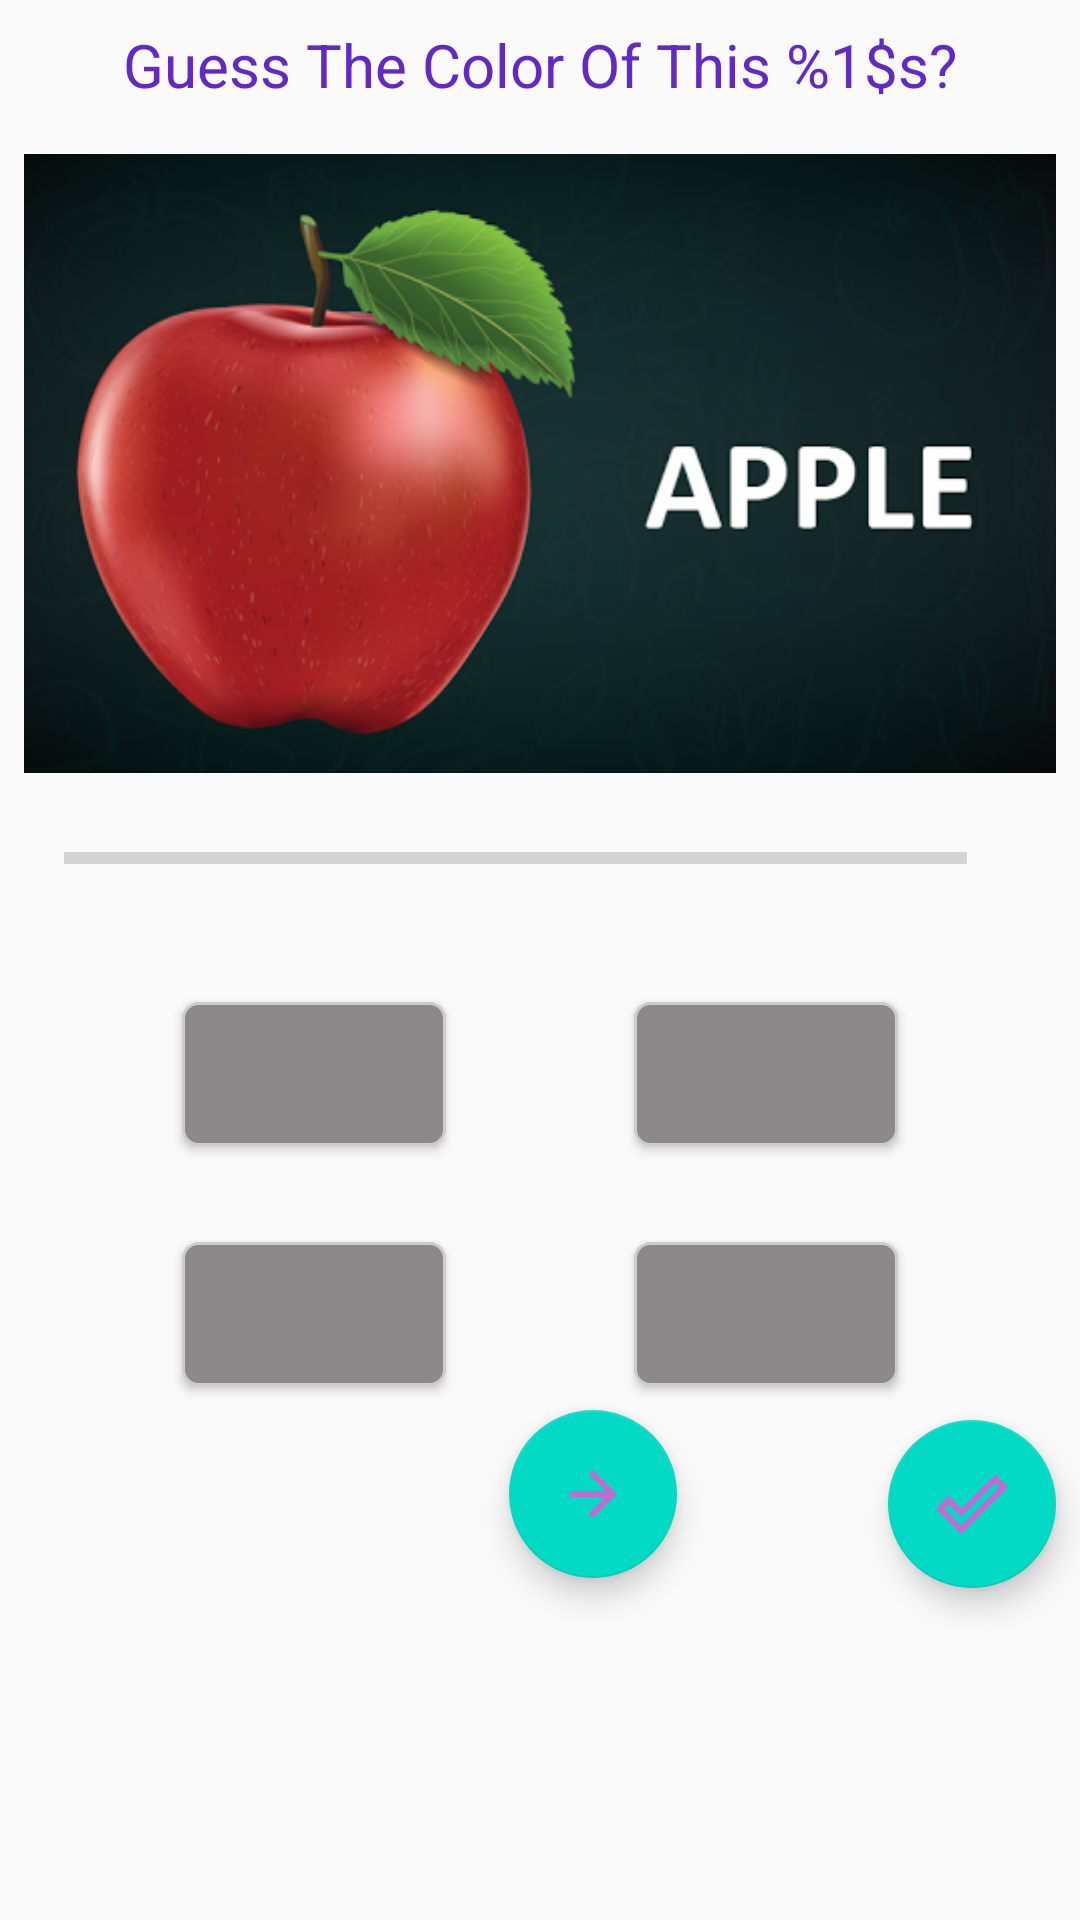

Named icons in this screenshot (1080×1920) and their centers, (x,y):
arrow next: (593,1494)
doneall: (972,1504)
